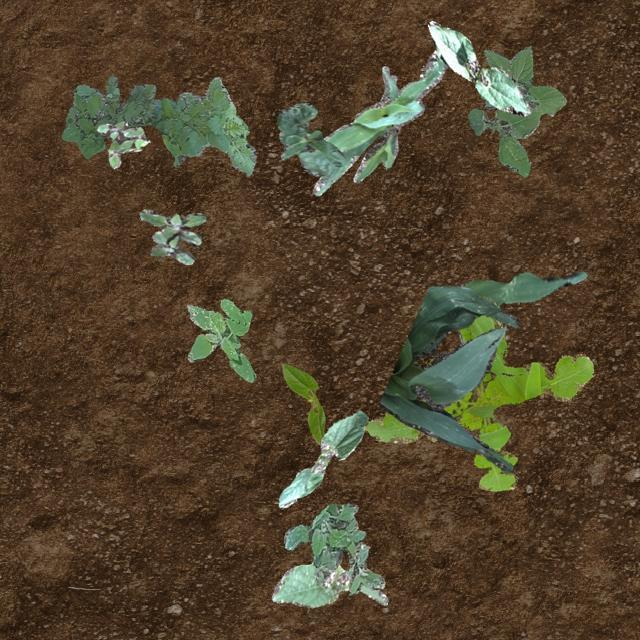crop: (378, 284, 518, 472), (312, 49, 448, 194), (426, 20, 530, 116), (457, 270, 585, 342), (278, 411, 368, 506), (270, 560, 388, 606), (276, 101, 344, 176), (281, 362, 325, 443)
weed: (362, 314, 592, 490), (61, 74, 254, 174), (466, 46, 564, 176), (282, 502, 384, 592), (187, 298, 254, 380), (138, 208, 204, 264), (96, 120, 148, 168)
